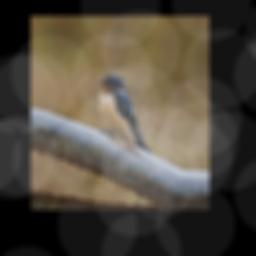Swallow: (84, 70, 168, 154)
